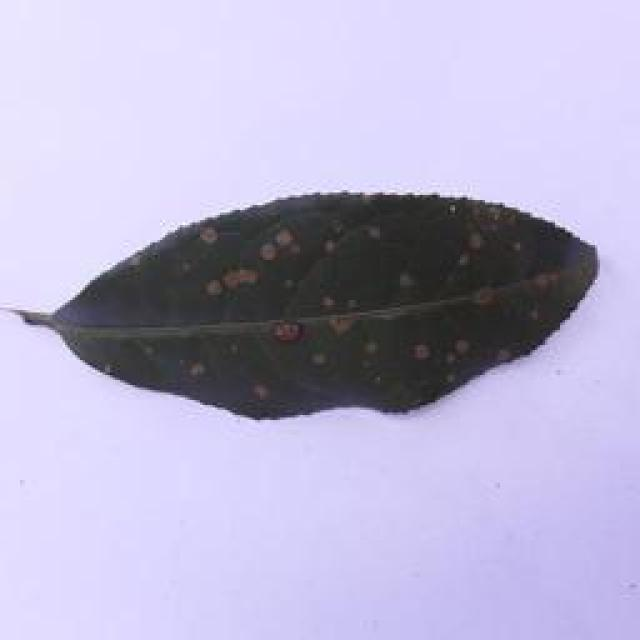Algal Leaf Spot: (4, 180, 610, 426)
